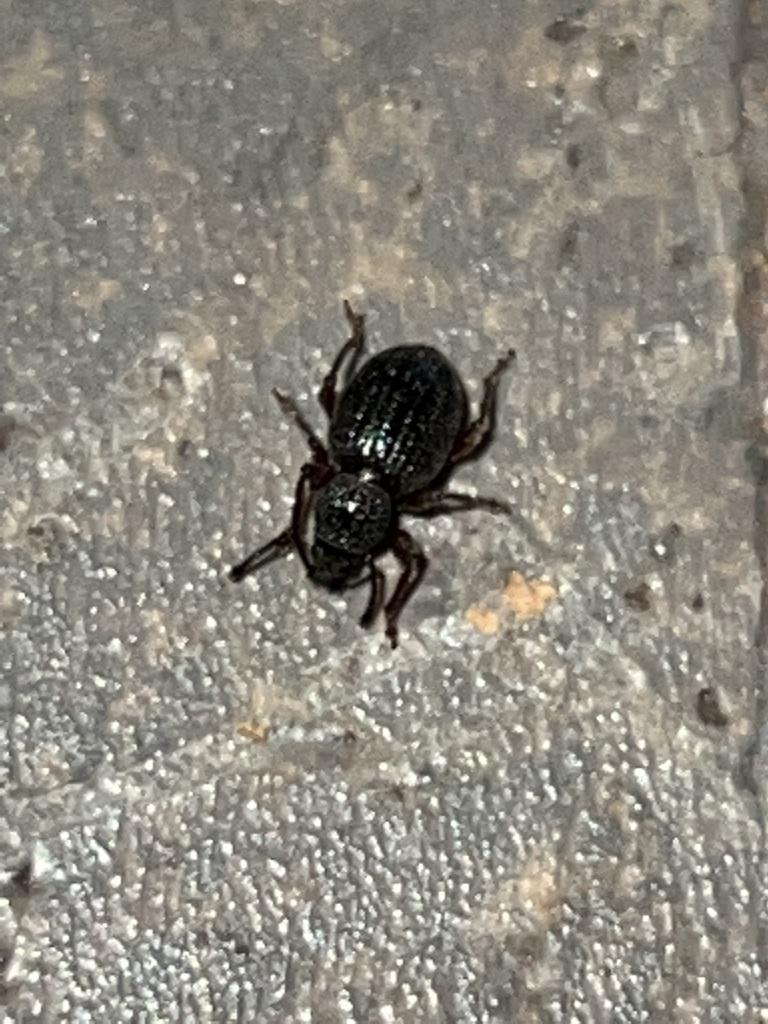weevils: (194, 240, 591, 717)
